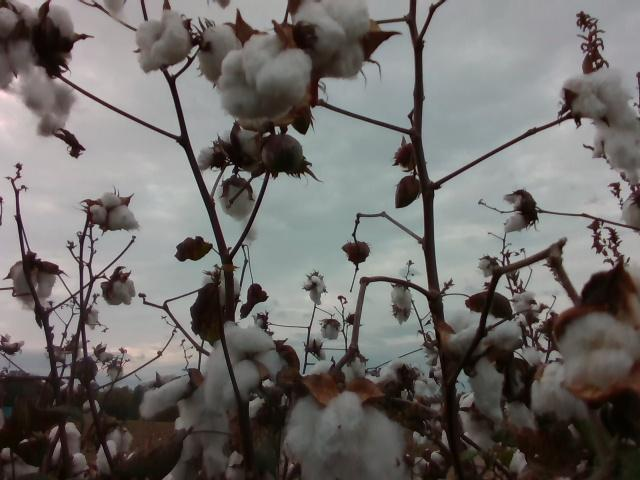cotton_ready: (283, 392, 411, 480), (139, 369, 231, 480), (0, 0, 76, 134), (218, 33, 314, 120), (204, 320, 283, 411), (558, 312, 640, 389), (292, 0, 369, 78), (558, 68, 638, 132), (444, 309, 522, 359), (531, 362, 590, 424), (136, 10, 191, 72), (197, 124, 269, 170), (589, 119, 640, 183), (198, 24, 244, 85), (442, 409, 494, 460), (467, 358, 506, 425), (11, 262, 56, 312), (49, 423, 88, 480), (30, 5, 76, 48), (90, 193, 140, 229), (0, 438, 42, 480), (200, 268, 241, 309), (219, 179, 256, 223), (373, 362, 421, 394), (302, 360, 346, 394), (501, 193, 530, 233), (104, 276, 137, 306), (95, 439, 119, 476), (620, 194, 640, 236), (341, 356, 368, 384)
